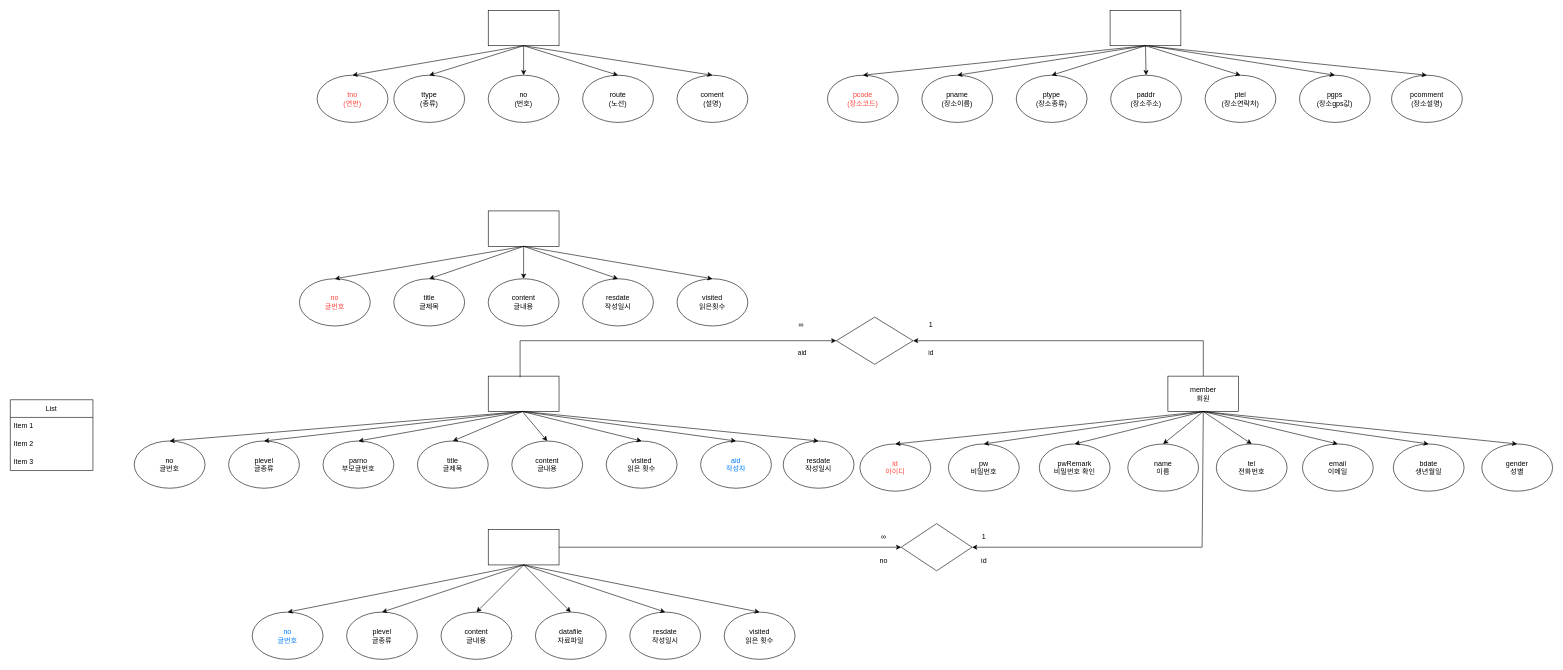
Some shapes in this 1563 by 670 pixel diagram are drawn without their labels. The shapes that lost their labels are listed below. From the top down, each one's centre as x and y in pixels, then its label:
At [523,28]: "traffic 교통편".
At [1145,28]: "guide 안내사항".
At [523,228]: "notice 사이트 소개".
At [874,340]: "글 등록".
At [523,394]: "qna (묻고 답하기)".
At [523,547]: "data 자료실".
At [936,547]: "자료 등록".
